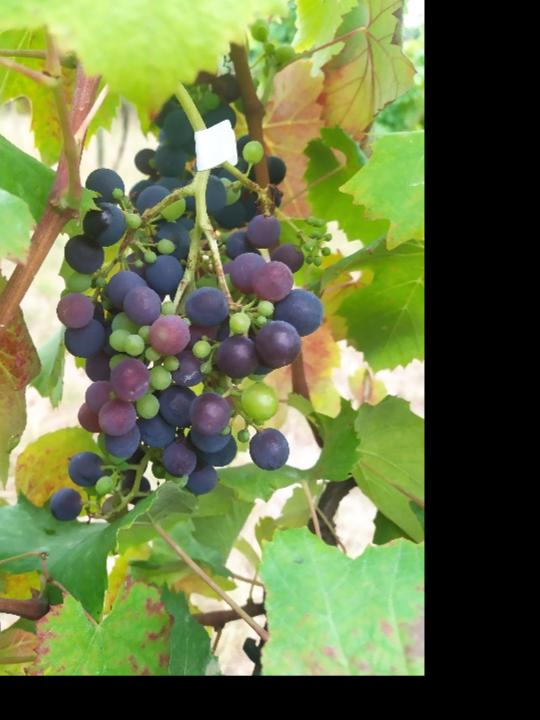grape: (46, 142, 332, 525)
